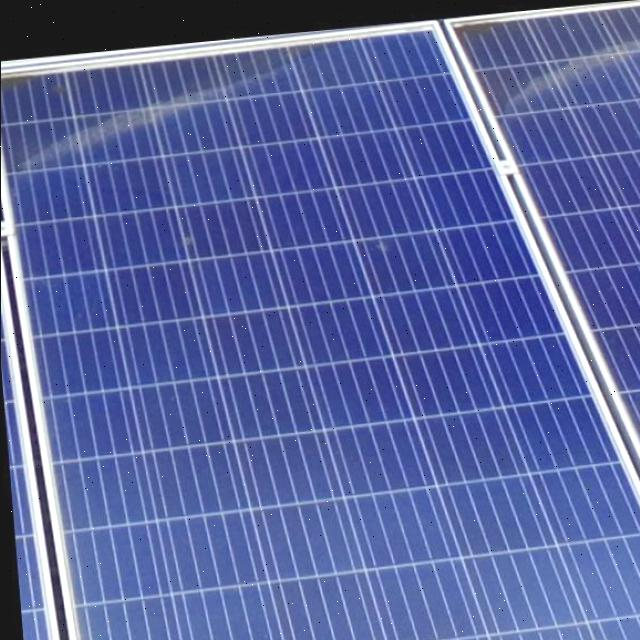Surface Contaminant: (0, 41, 339, 178), (454, 1, 640, 120)
